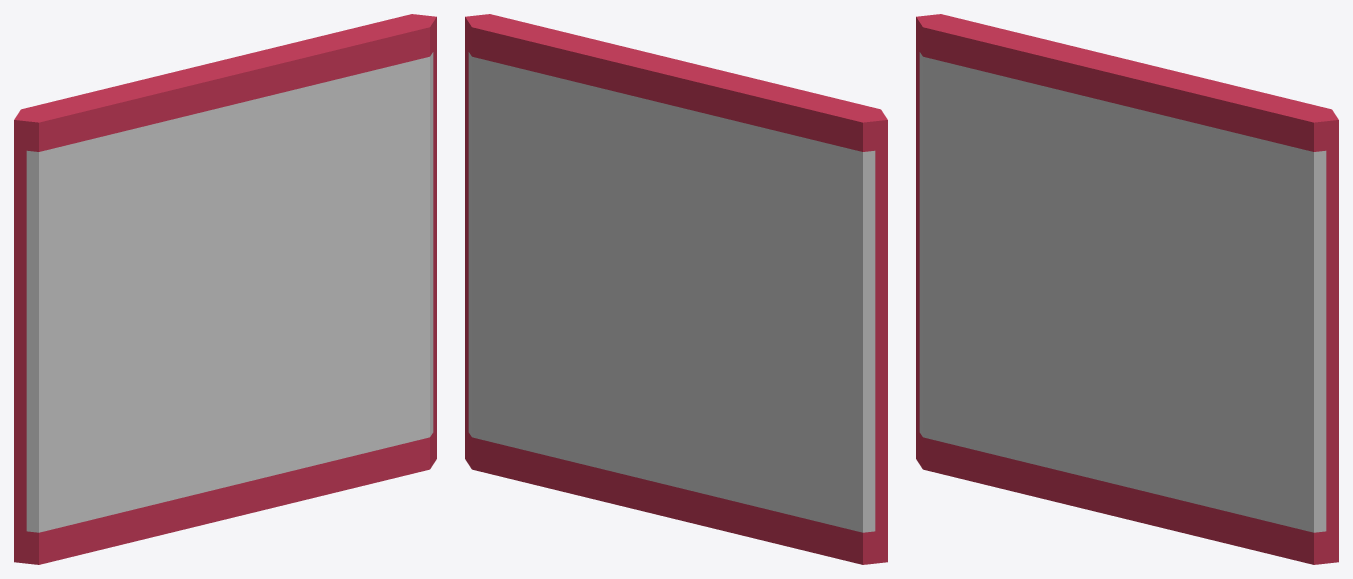
The model's file is mirror.fbx.
3 views of the same model, side by side, from view 1: azimuth 30°, elevation 25°; view 2: azimuth 150°, elevation 25°; view 3: azimuth 330°, elevation 25° (orthographic).
Parts seen in each view (by area): view 1: Cube; view 2: Cube; view 3: Cube.
Part boxes in pixels (x1,y1,x2,y2): Cube: (14,14,436,564); Cube: (465,14,887,564); Cube: (916,14,1338,564).
Bounding box in the file's own units: 200 × 200 × 14.8.
